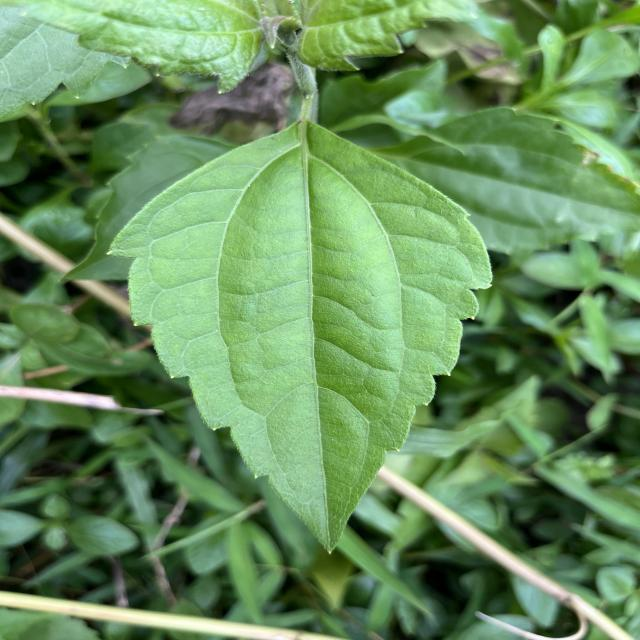Chromolaena odorata: (100, 116, 500, 562)
